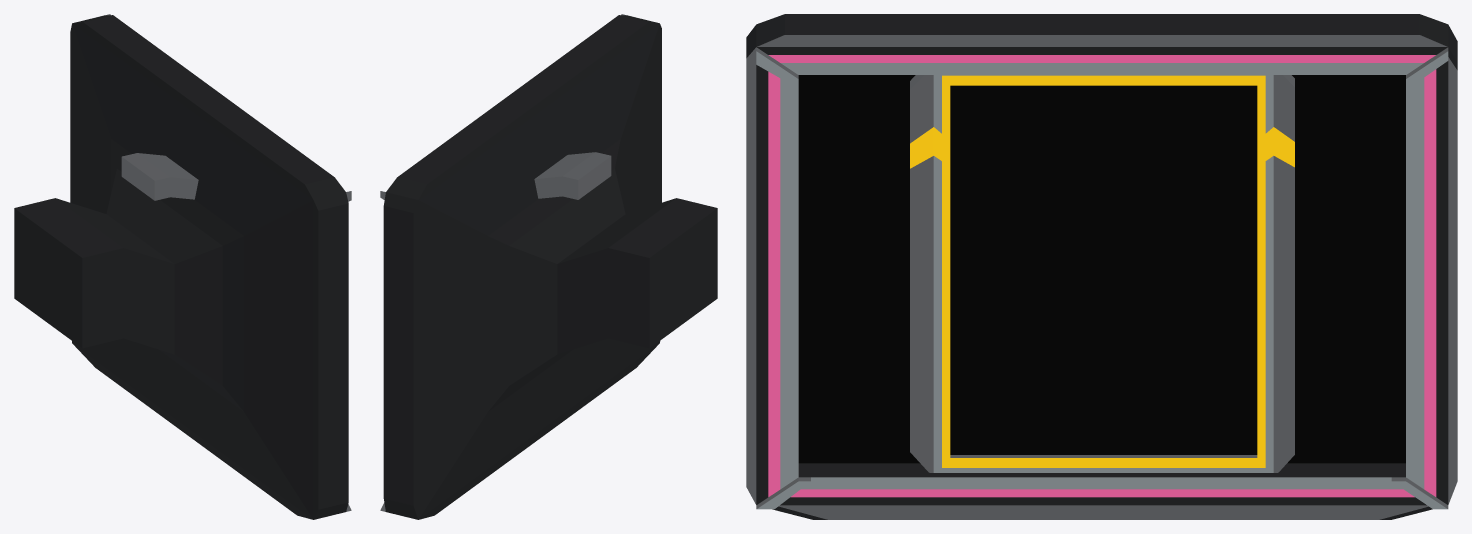
Rendered from Monitors.fbx.
3 views of the same model, side by side, from view 1: azimuth 30°, elevation 25°; view 2: azimuth 150°, elevation 25°; view 3: azimuth 270°, elevation 25° (orthographic). The views are drawn at different scales.
Visible parts, largest first — view 1: Monitor_2, Monitor_1; view 2: Monitor_2, Monitor_1; view 3: Monitor_2, Monitor_1.
Boxes of the visible parts, left/top/right/bottom form: Monitor_2: left=14, top=14, right=351, bottom=519; Monitor_1: left=121, top=153, right=198, bottom=200; Monitor_2: left=380, top=14, right=717, bottom=519; Monitor_1: left=534, top=152, right=611, bottom=199; Monitor_2: left=746, top=14, right=1457, bottom=519; Monitor_1: left=910, top=75, right=1294, bottom=472.
Bounding box in the file's own units: 95.83 × 170 × 225.
